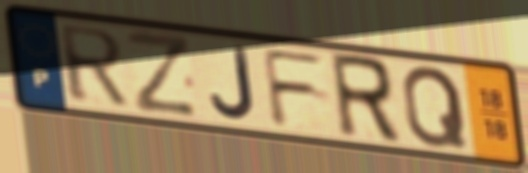F: (258, 46, 330, 129)
J: (207, 44, 259, 124)
Q: (399, 63, 471, 149)
R: (326, 50, 405, 148), (56, 23, 133, 109)
Z: (123, 27, 201, 120)
